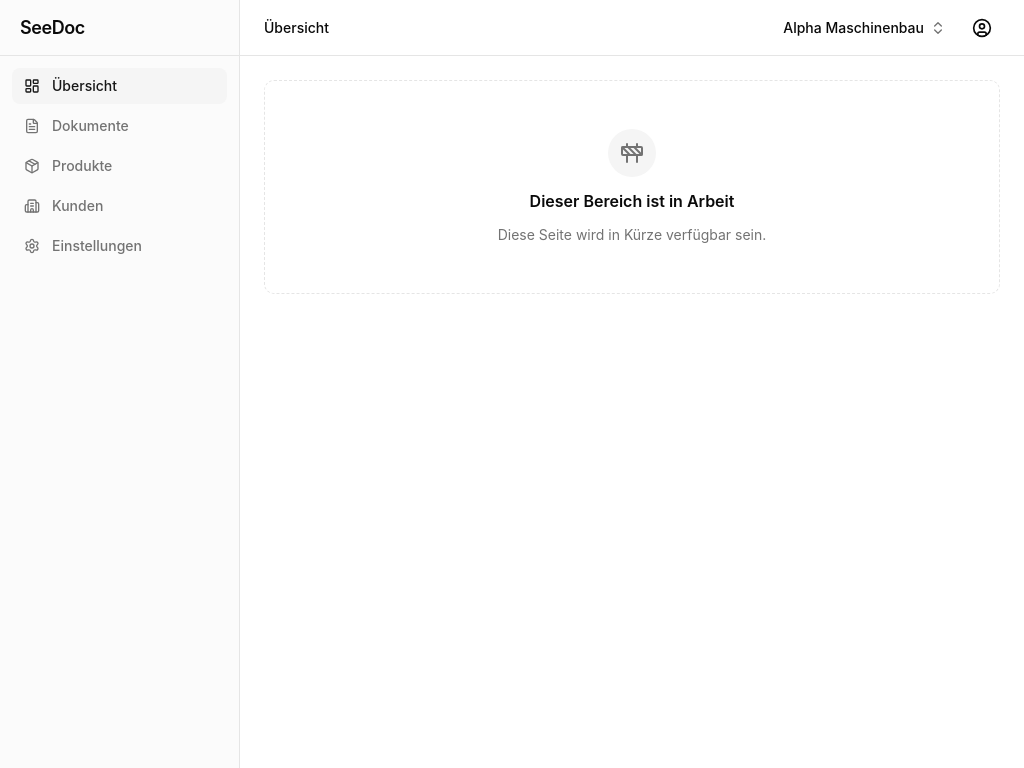
it: AppLayout › switches tenant from the top bar
The image size is (1024, 768).
Press Enter in the button with aria-label "Hersteller wechseln", box x1=773 y1=12 x2=956 y2=44
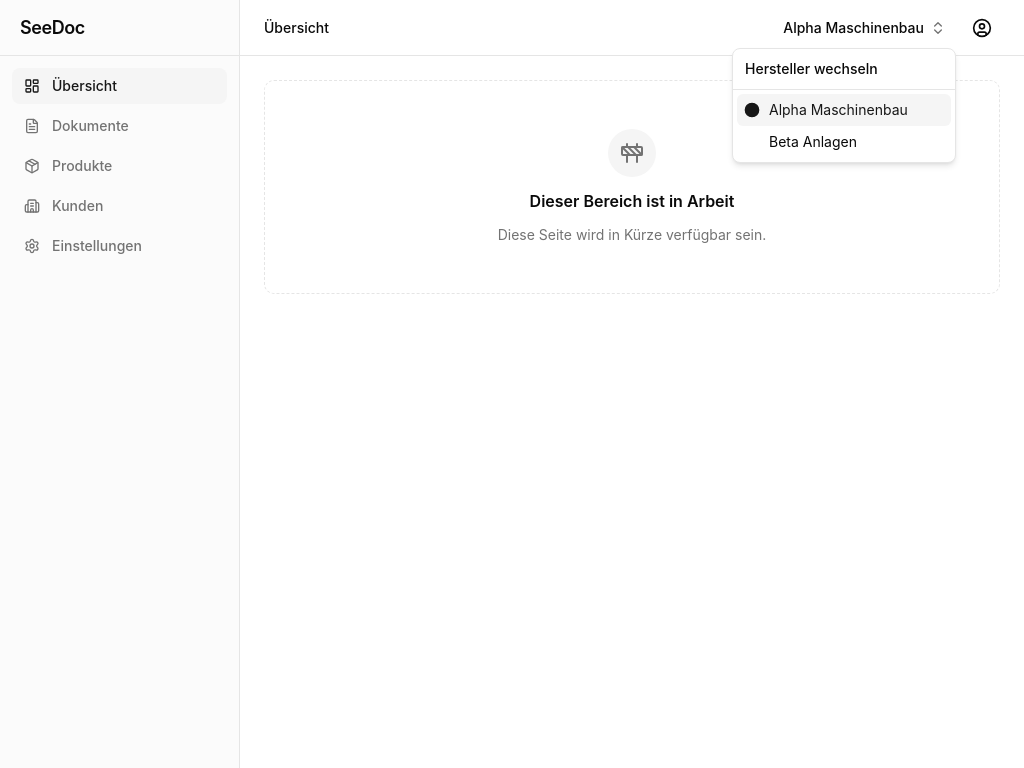
Click the menu item "Beta Anlagen" at (813, 142), box x1=769 y1=133 x2=857 y2=150
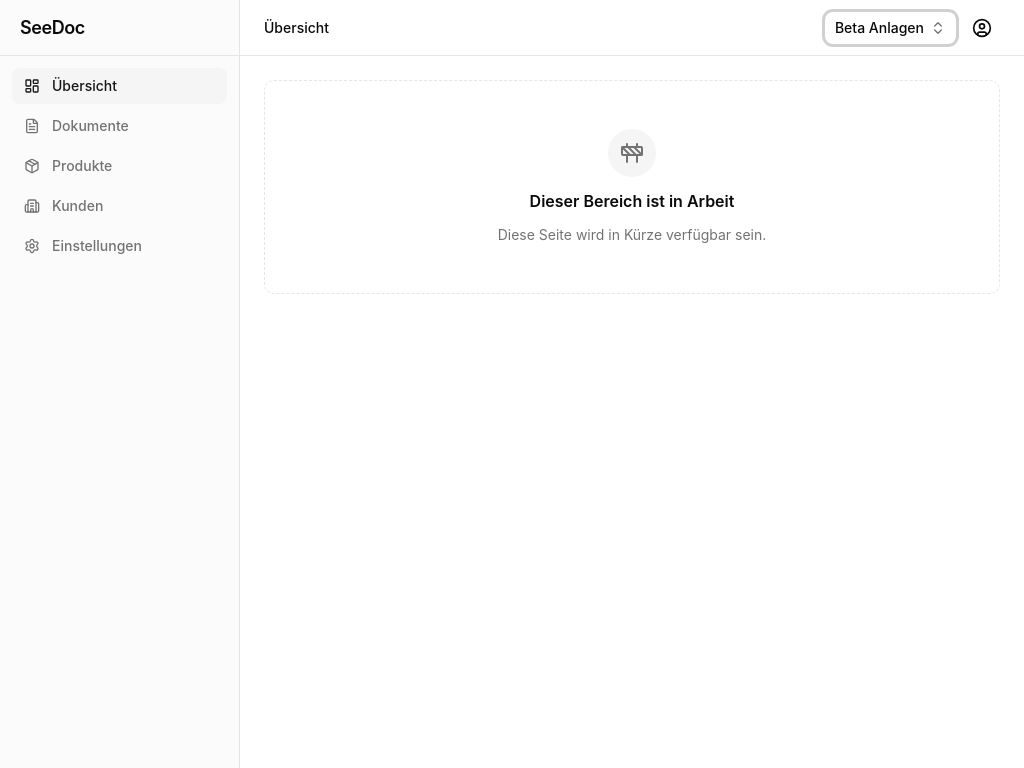
Check: the button with aria-label "Hersteller wechseln" reads "Beta Anlagen", box x1=825 y1=12 x2=956 y2=44
